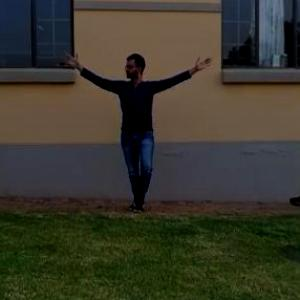takeoff: (62, 50, 205, 204)
